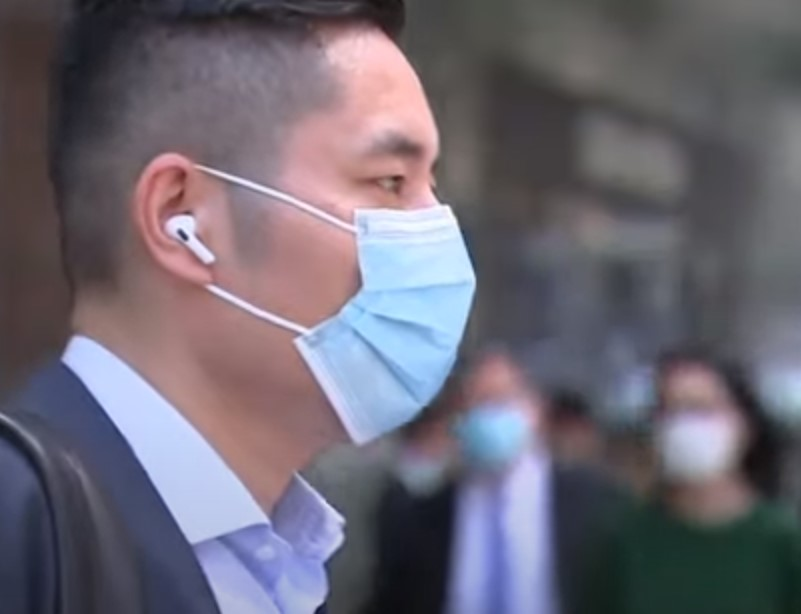face_with_mask: (47, 7, 480, 457)
